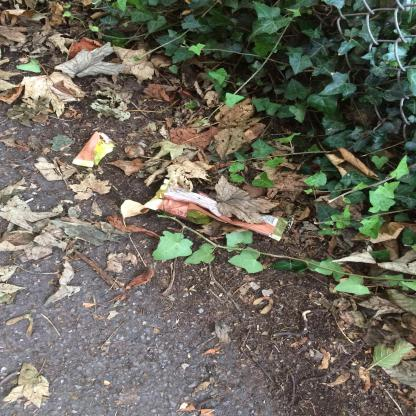plastik: (143, 178, 290, 242), (72, 130, 116, 168)
